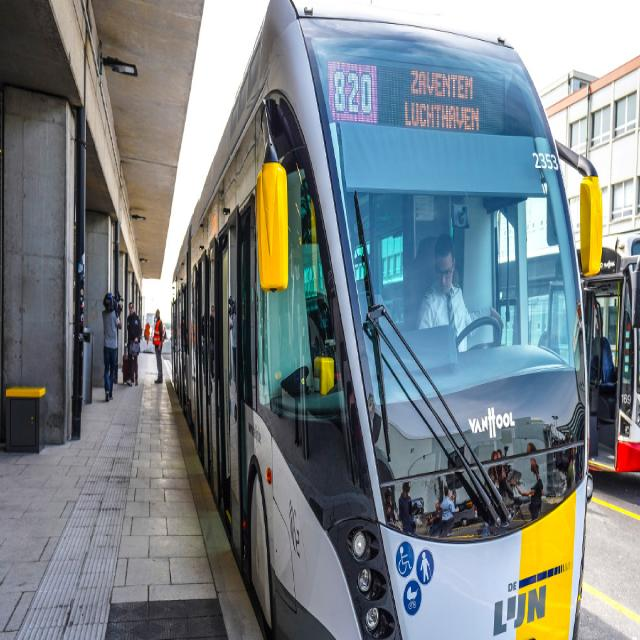bus-number: (331, 66, 376, 117)
